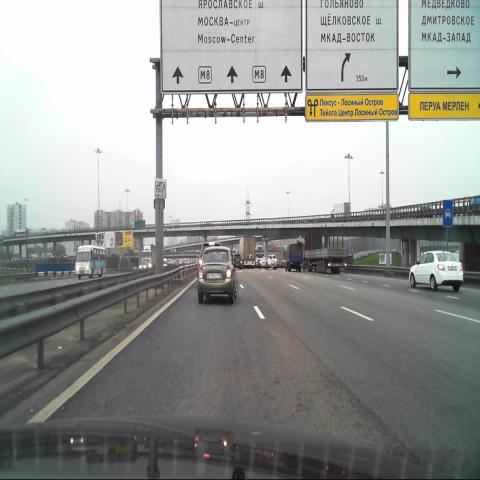5_3: (443, 198, 453, 228)
